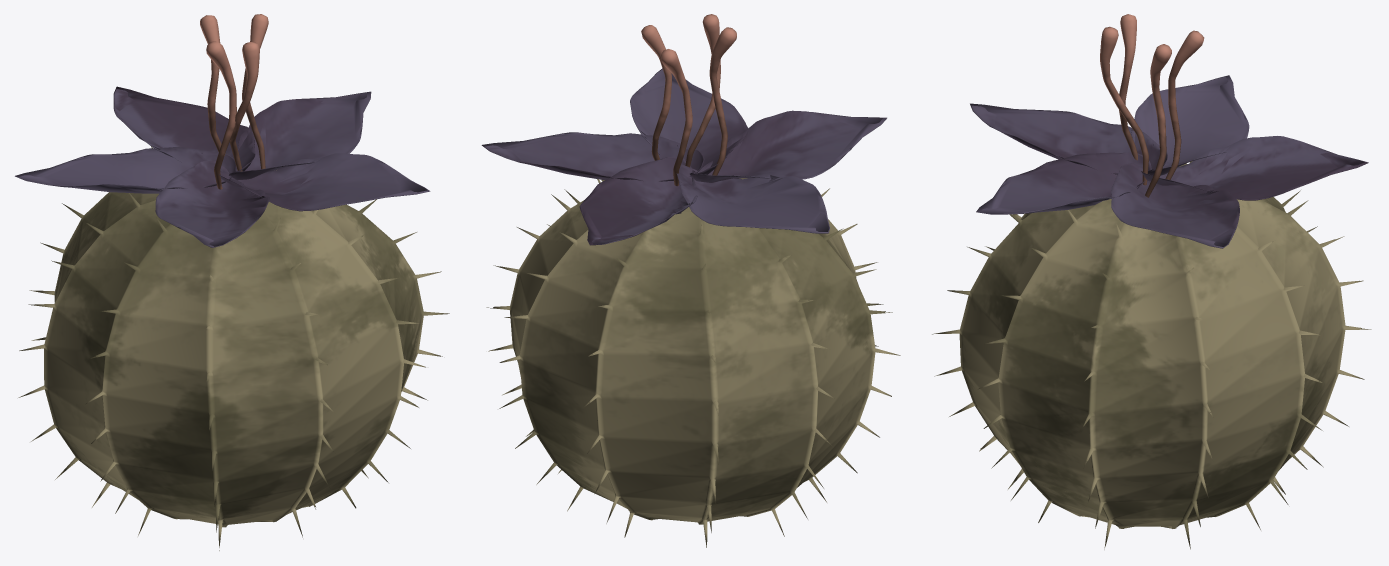
File: SundialDead.fbx
3 views of the same model, side by side, from view 1: azimuth 30°, elevation 25°; view 2: azimuth 150°, elevation 25°; view 3: azimuth 270°, elevation 25° (orthographic).
Visible parts, largest first — view 1: Sundial; view 2: Sundial; view 3: Sundial.
Part boxes in pixels (bbox=[...]): Sundial: bbox=[15, 14, 449, 550]; Sundial: bbox=[481, 14, 900, 547]; Sundial: bbox=[932, 14, 1371, 549].
Size of the model in its own units: 790 by 989 by 818.
1 material, 1 textured.
